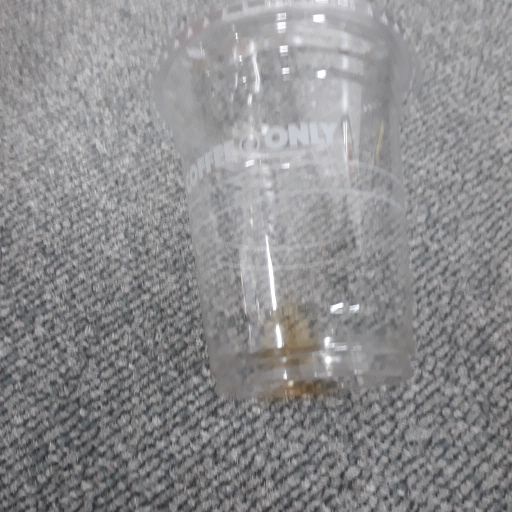Plastic_2: (154, 2, 413, 406)
